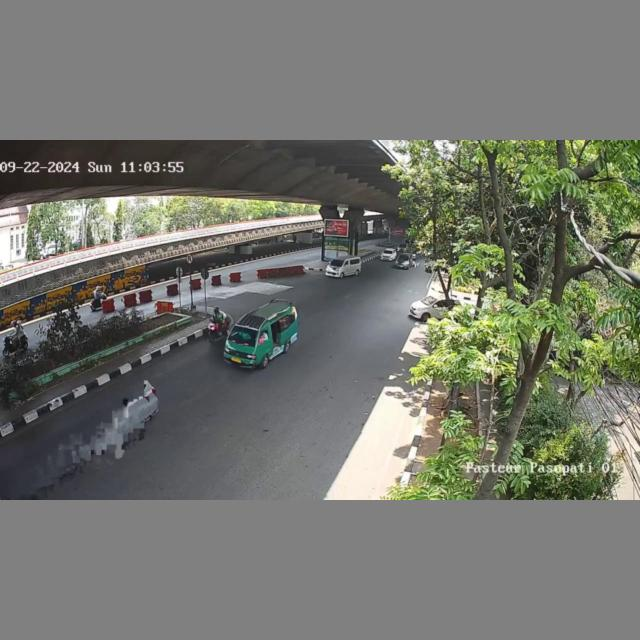windshield: (227, 325, 258, 344)
